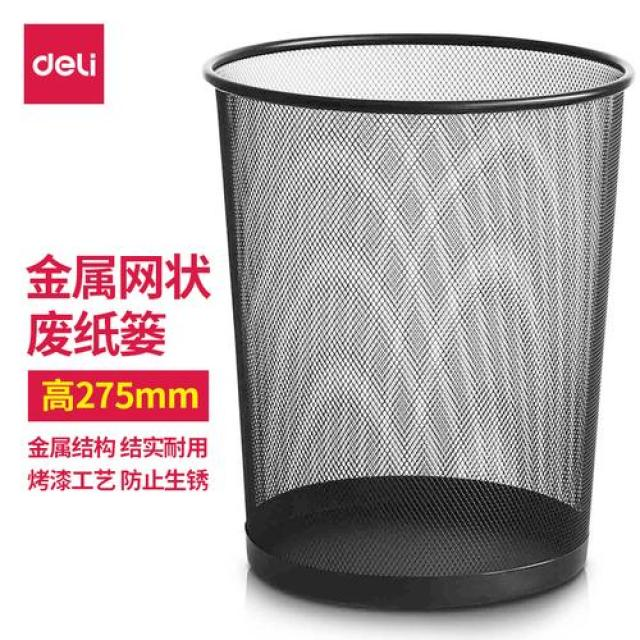dustbin: (199, 24, 637, 616)
